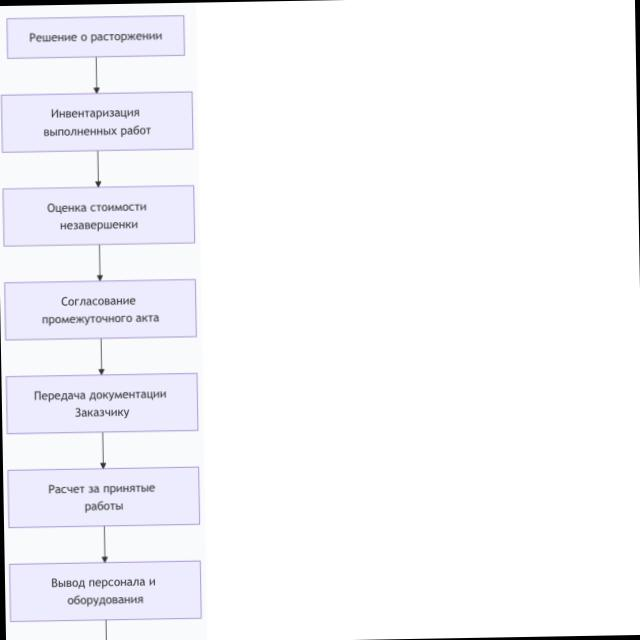arrow: (100, 433, 106, 468), (103, 526, 108, 562), (98, 245, 103, 280), (94, 57, 99, 92), (99, 339, 104, 374), (96, 151, 101, 186)
rectangle: (8, 466, 199, 527), (3, 186, 195, 246), (6, 374, 198, 434), (5, 280, 196, 340), (10, 562, 201, 622), (2, 92, 192, 152), (7, 16, 185, 59)
